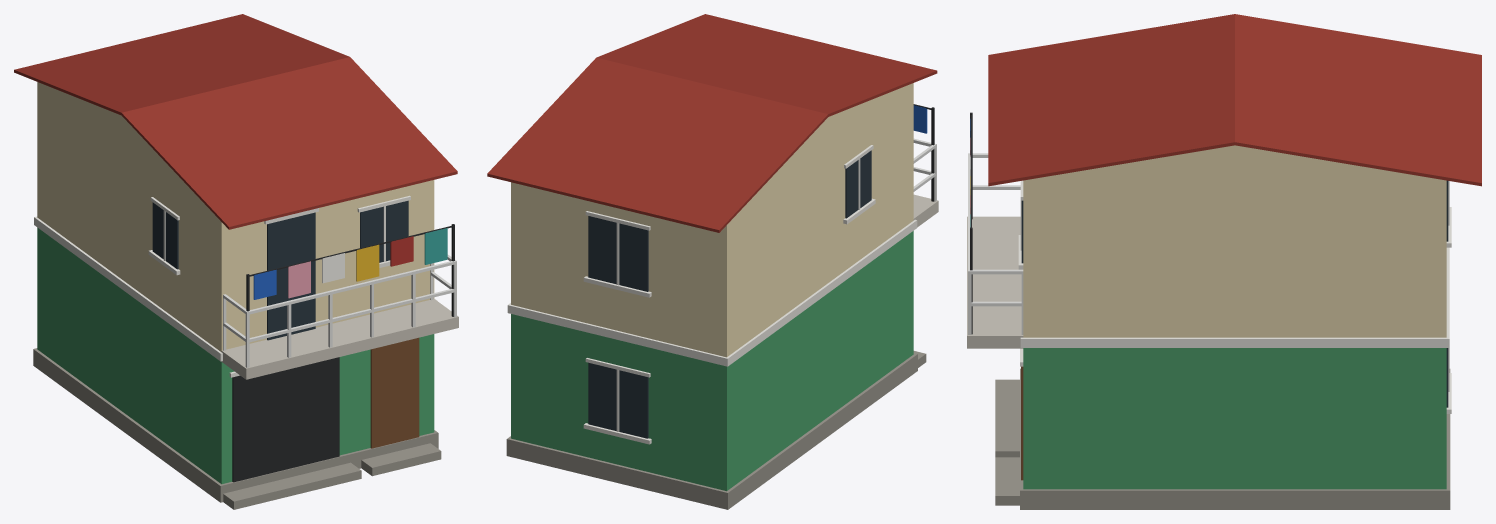
File: BAY_F_TwoStorey_F.glb
3 views of the same model, side by side, from view 1: azimuth 30°, elevation 25°; view 2: azimuth 150°, elevation 25°; view 3: azimuth 270°, elevation 25° (orthographic). The views are drawn at different scales.
Parts seen in each view (by area): view 1: BAY_F_TwoStorey_F; view 2: BAY_F_TwoStorey_F; view 3: BAY_F_TwoStorey_F.
Part boxes in pixels (x1,y1,x2,y2): BAY_F_TwoStorey_F: (14,14,458,509); BAY_F_TwoStorey_F: (487,14,938,509); BAY_F_TwoStorey_F: (967,14,1481,509).
Bounding box in the file's own units: 4.3 × 5.8 × 7.3.
Materials: 1 (1 with a texture image).
